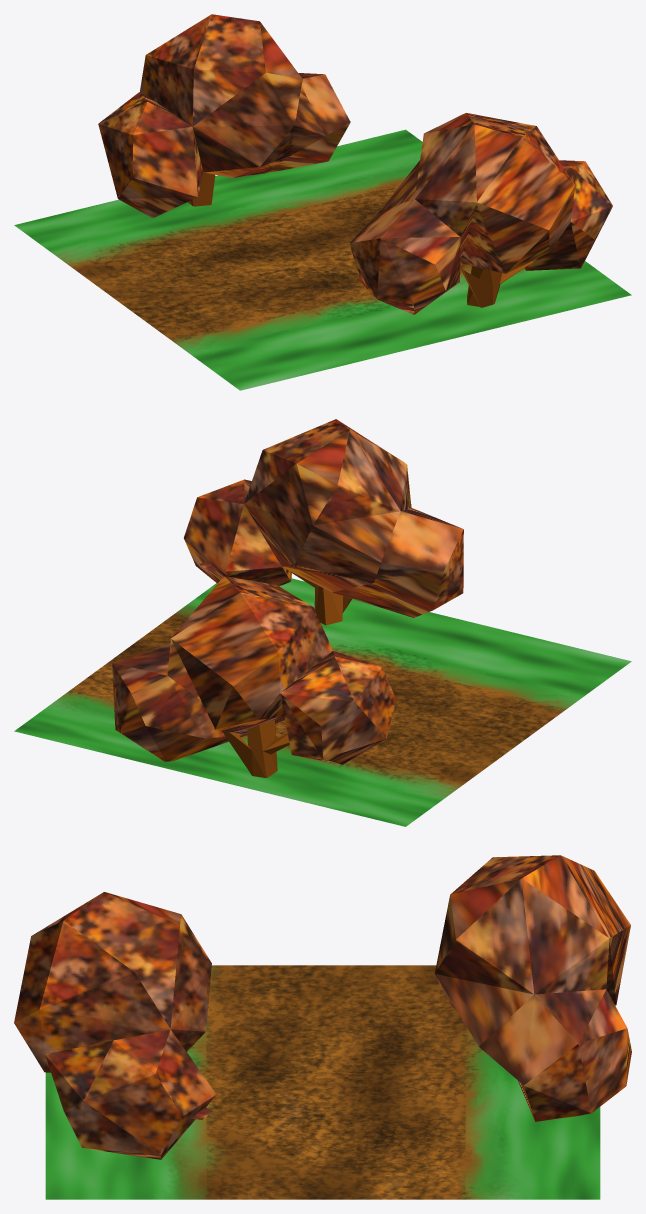
Rendered from StraightTile.fbx.
The picture shows the model from 3 angles, top to bottom: view 1: azimuth 30°, elevation 25°; view 2: azimuth 150°, elevation 25°; view 3: azimuth 270°, elevation 25°; orthographic projection. The views are drawn at different scales.
Visible parts, largest first — view 1: Plane.001; view 2: Plane.001; view 3: Plane.001.
Boxes of the visible parts, x1,y1,x2,y2 form: Plane.001: (14, 14, 631, 390); Plane.001: (14, 419, 631, 826); Plane.001: (14, 855, 631, 1199).
Bounding box in the file's own units: 30055 × 14090 × 33433.
